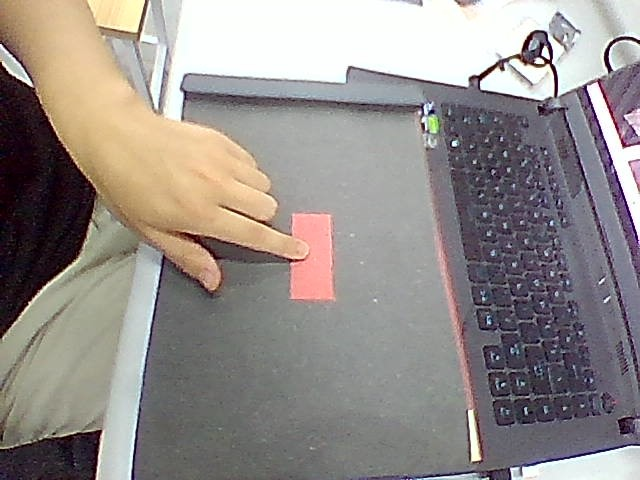card: (290, 213, 334, 300)
